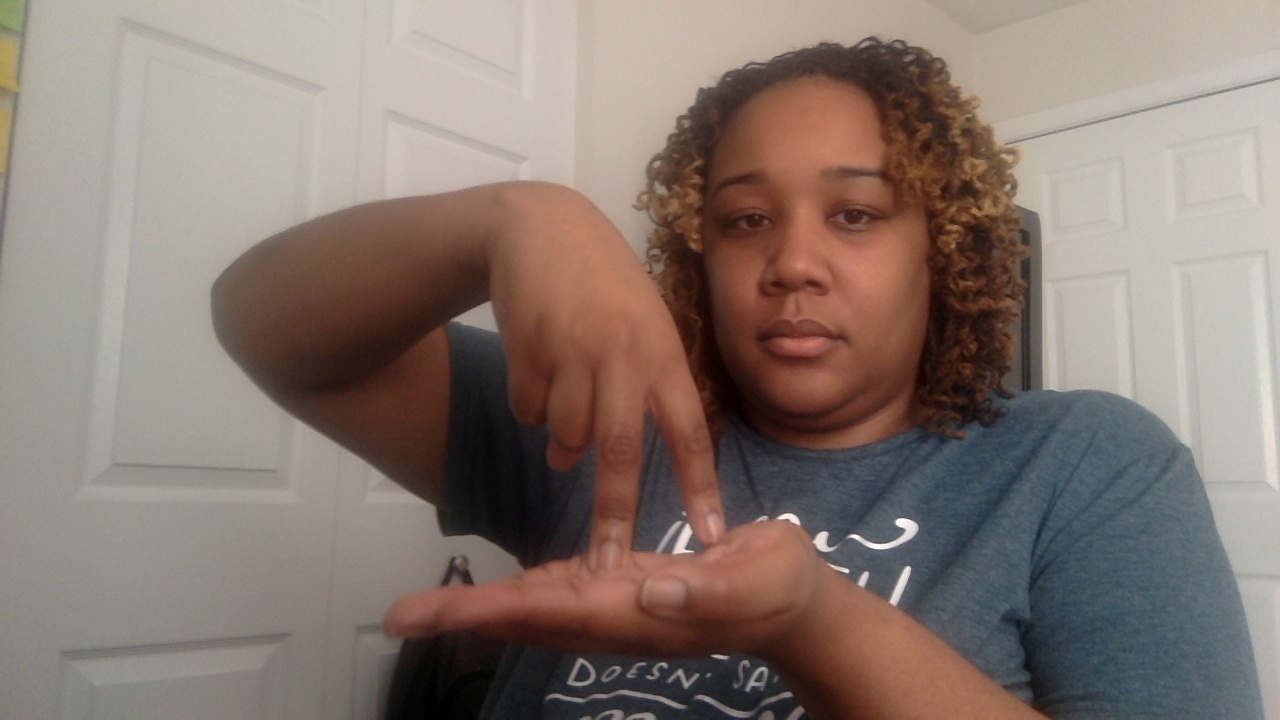fork: (387, 178, 797, 663)
